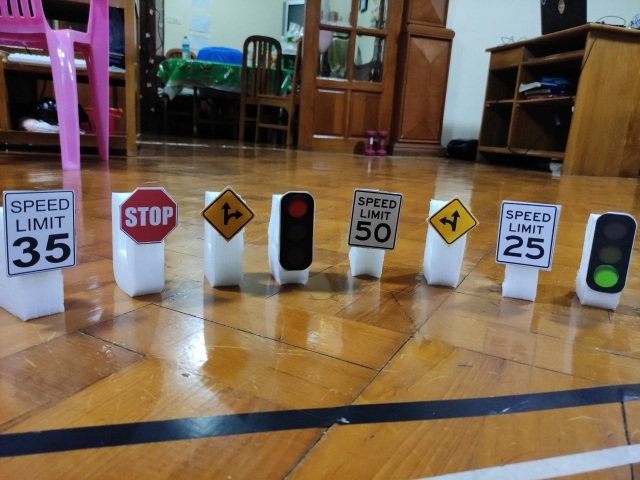Green Traffic Light: (587, 212, 636, 292)
Red Traffic Light: (280, 191, 315, 271)
Speed Limit 25: (496, 202, 558, 269)
Speed Limit 35: (5, 189, 77, 275)
Speed Limit 50: (348, 189, 403, 250)
Stop Sign: (119, 187, 178, 244)
Straight Or Left Sign: (427, 196, 478, 244)
Straight Or Right Sign: (201, 187, 255, 243)
